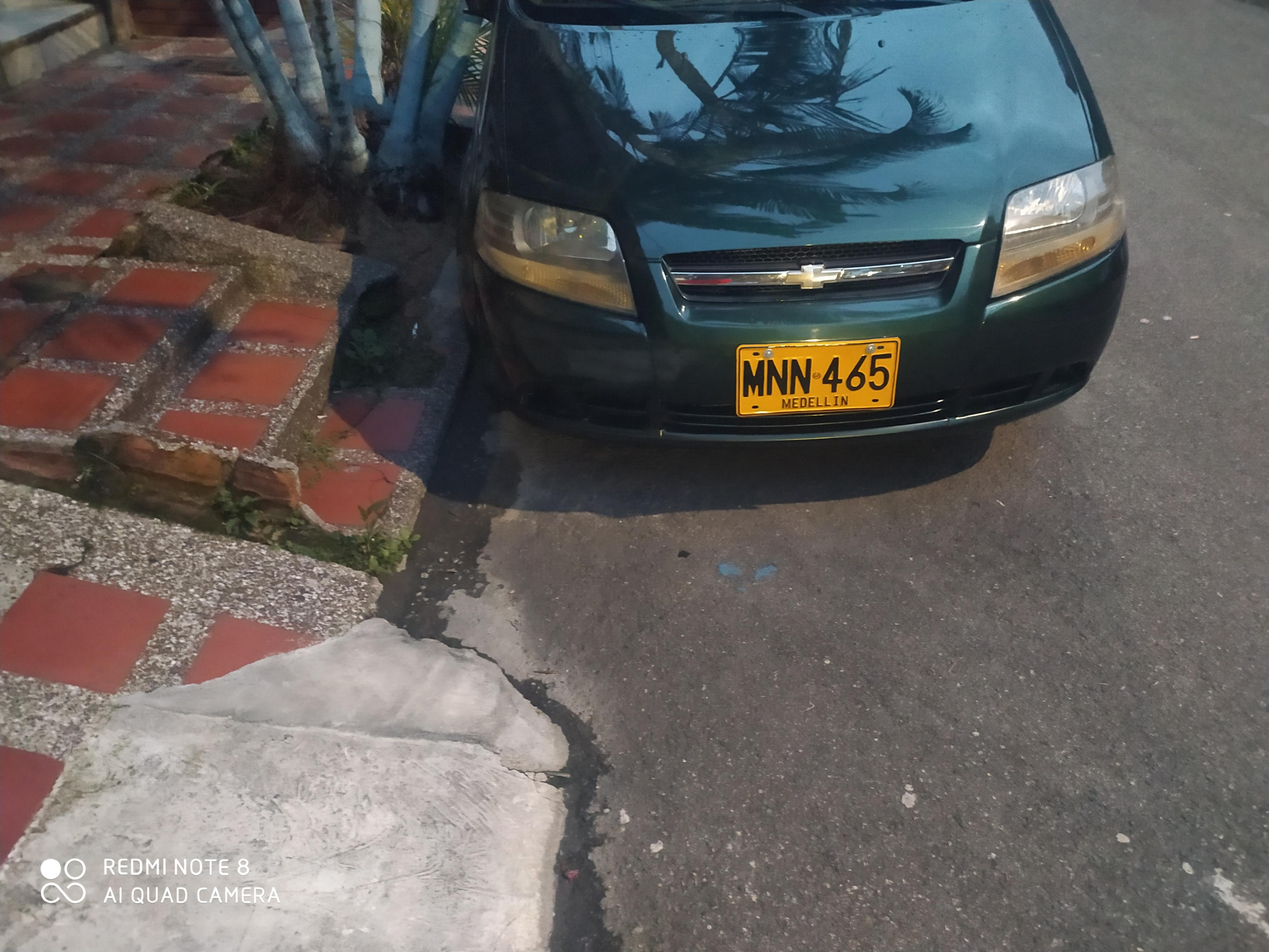placa: (722, 331, 904, 423)
